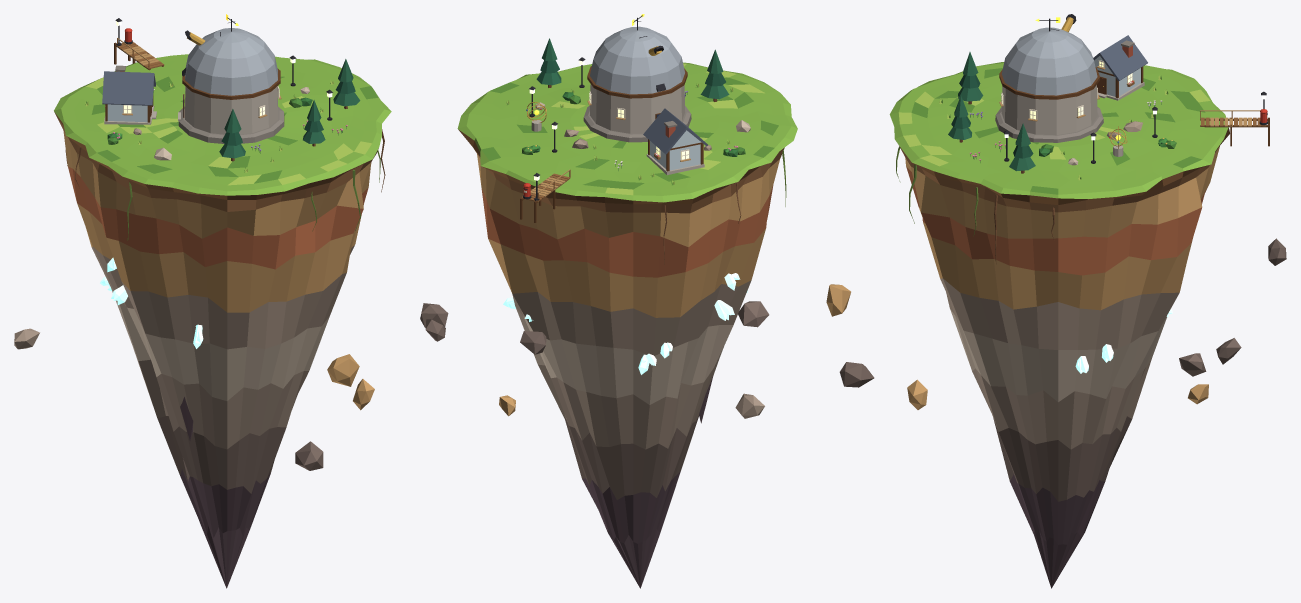
File: island_observatory.glb
3 views of the same model, side by side, from view 1: azimuth 30°, elevation 25°; view 2: azimuth 150°, elevation 25°; view 3: azimuth 270°, elevation 25° (orthographic).
Parts seen in each view (by area): view 1: Island-col, Dressing, Debris, Crystals, Roots; view 2: Island-col, Dressing, Debris, Crystals; view 3: Island-col, Dressing, Debris.
Boxes of the visible parts, x1,y1,x2,y2 form: Island-col: (54, 54, 391, 588); Dressing: (85, 18, 360, 172); Debris: (14, 328, 374, 470); Crystals: (100, 257, 203, 348); Roots: (65, 129, 385, 240); Island-col: (457, 62, 797, 588); Dressing: (506, 26, 750, 222); Debris: (420, 301, 769, 418); Crystals: (503, 273, 747, 374); Island-col: (889, 62, 1229, 588); Dressing: (939, 14, 1269, 180); Debris: (826, 238, 1286, 409).
Size of what is drawn, in the model's own units: 43.21 by 73.73 by 53.62.
